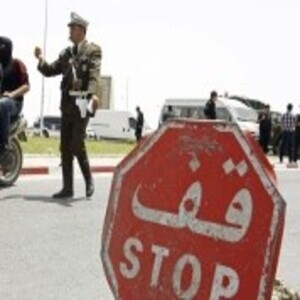stop: (102, 117, 283, 300)
